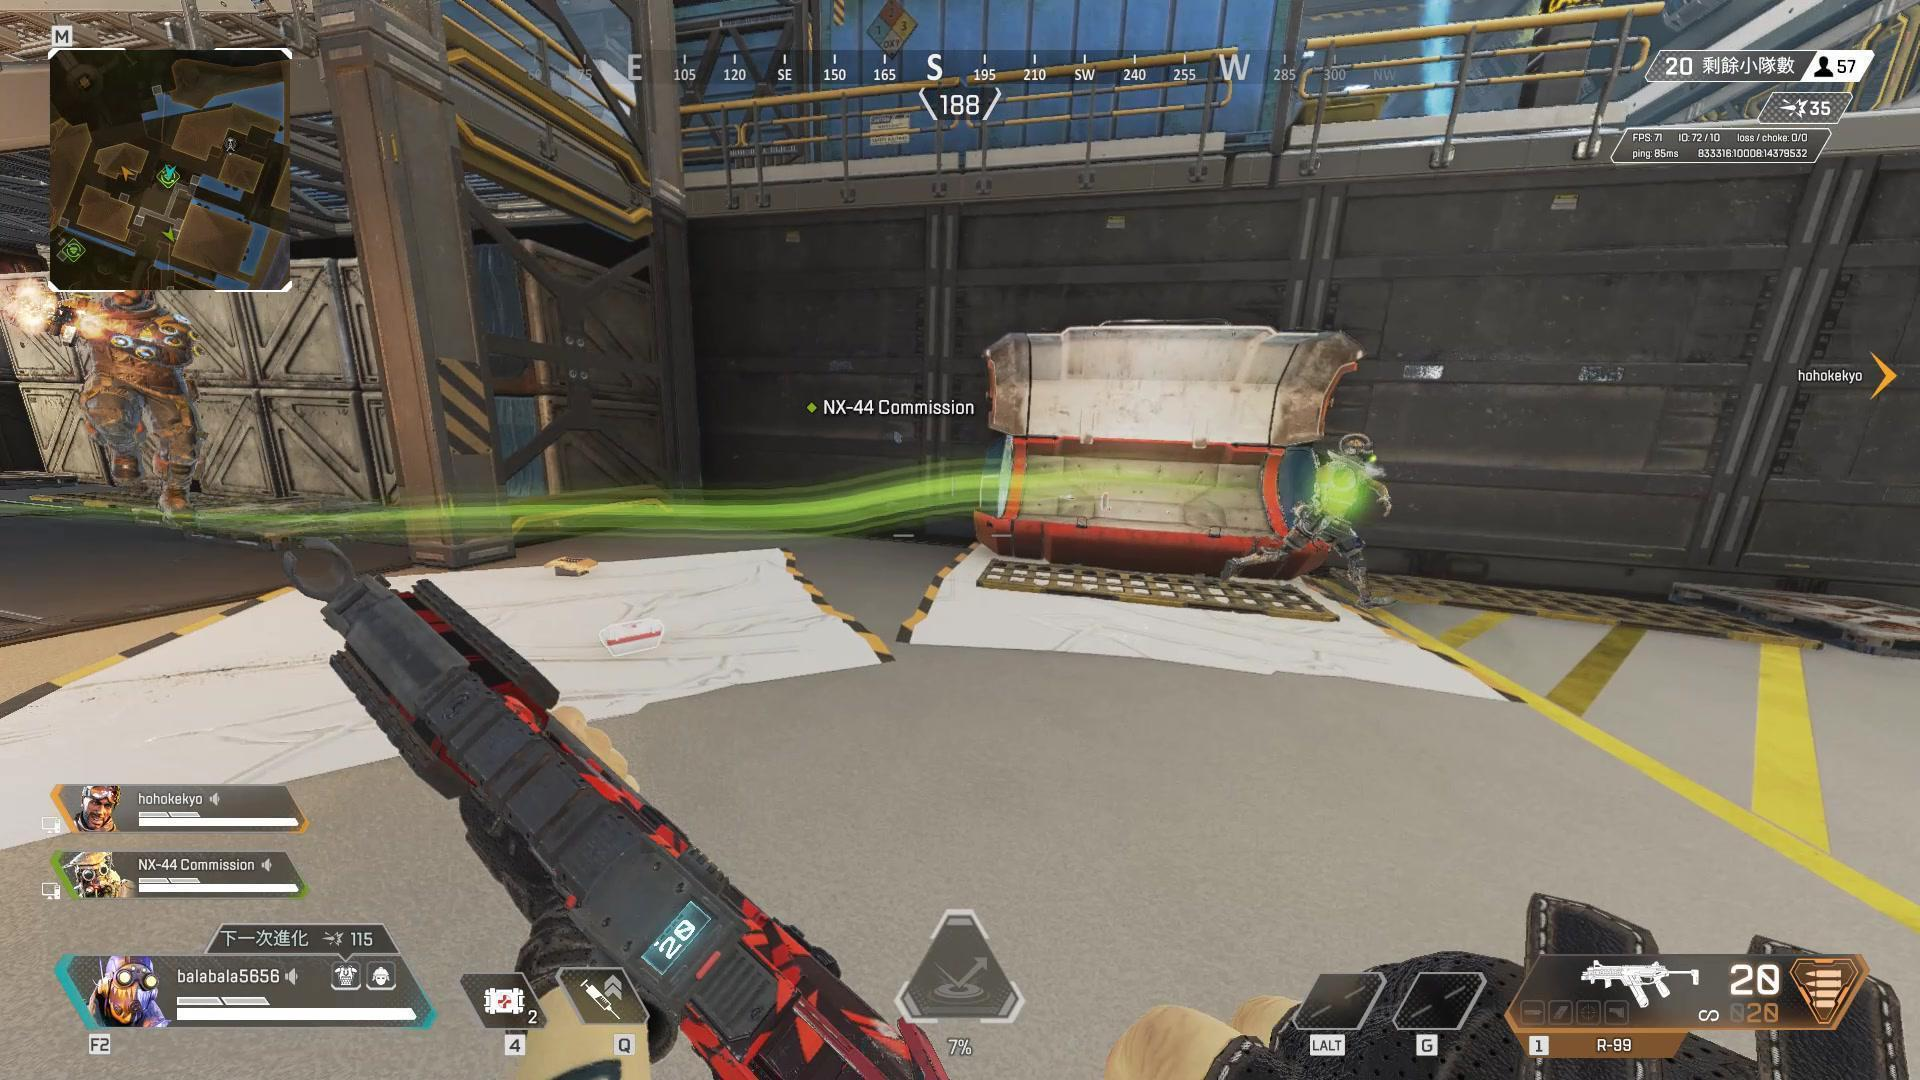avatar: (1291, 431, 1392, 611)
object: (1312, 461, 1371, 524)
